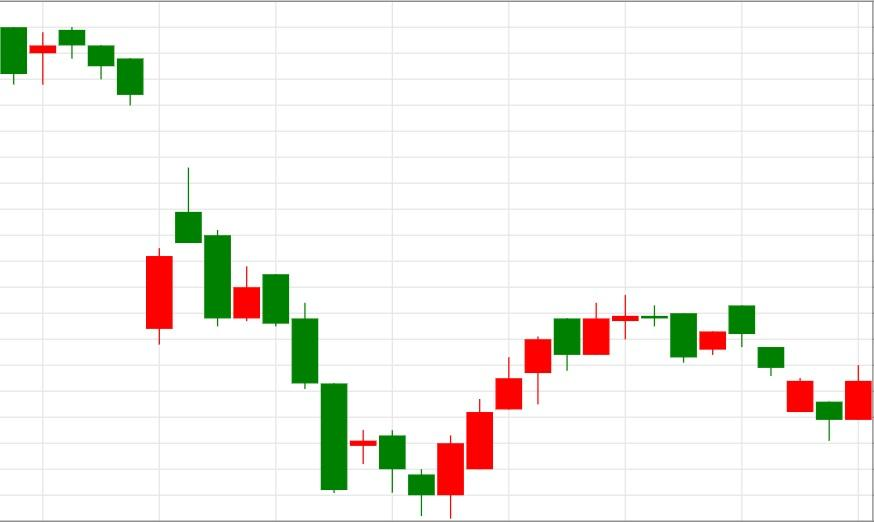bullish_engulfing_rise: (175, 167, 465, 518)
